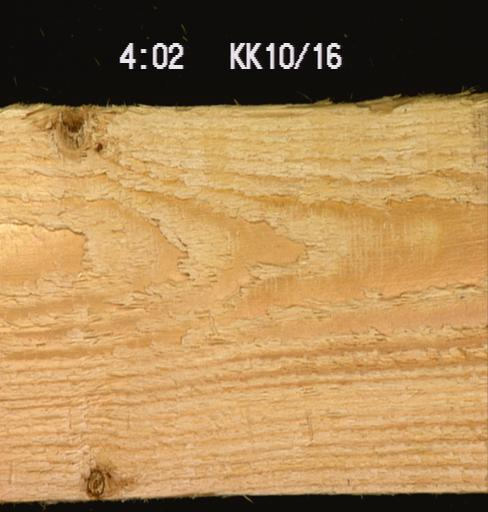edge_knot: (29, 101, 134, 156), (82, 465, 105, 497)
